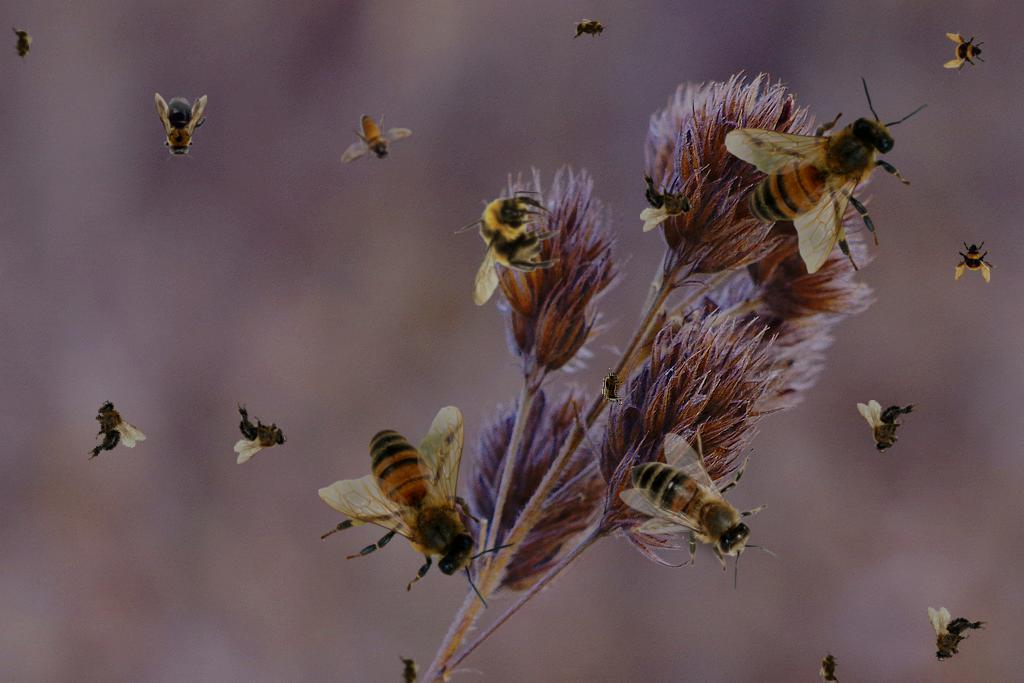Bee: (318, 405, 517, 609), (724, 75, 928, 274), (619, 424, 781, 591), (454, 191, 561, 306), (71, 392, 148, 464), (916, 603, 989, 671), (341, 114, 412, 164), (155, 93, 207, 161), (857, 400, 919, 453), (640, 170, 693, 232), (234, 402, 287, 464), (943, 31, 987, 75), (953, 239, 997, 283), (570, 18, 610, 40), (11, 24, 33, 64), (601, 367, 623, 407), (819, 648, 841, 683), (398, 652, 420, 683)
